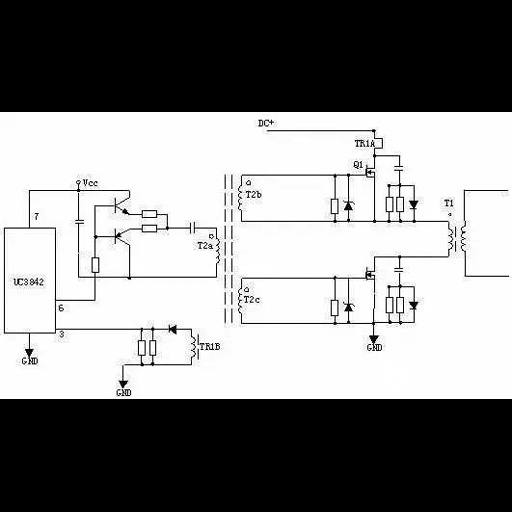capacitor: (186, 220, 198, 236), (72, 215, 85, 228), (392, 265, 407, 276), (392, 163, 406, 174)
firstdiode: (166, 320, 179, 337), (409, 198, 421, 211), (410, 299, 420, 313)
firstresistance: (87, 254, 106, 274), (147, 339, 162, 358), (139, 208, 161, 220), (395, 193, 406, 217), (329, 298, 342, 318), (138, 223, 161, 234), (396, 295, 407, 316), (135, 338, 147, 357), (383, 195, 394, 215), (385, 295, 395, 317), (331, 198, 341, 217)
inductor: (188, 332, 197, 364)
npn: (110, 194, 134, 217)
pnp: (110, 226, 134, 252)
transformer: (215, 171, 244, 327), (445, 220, 467, 258)
